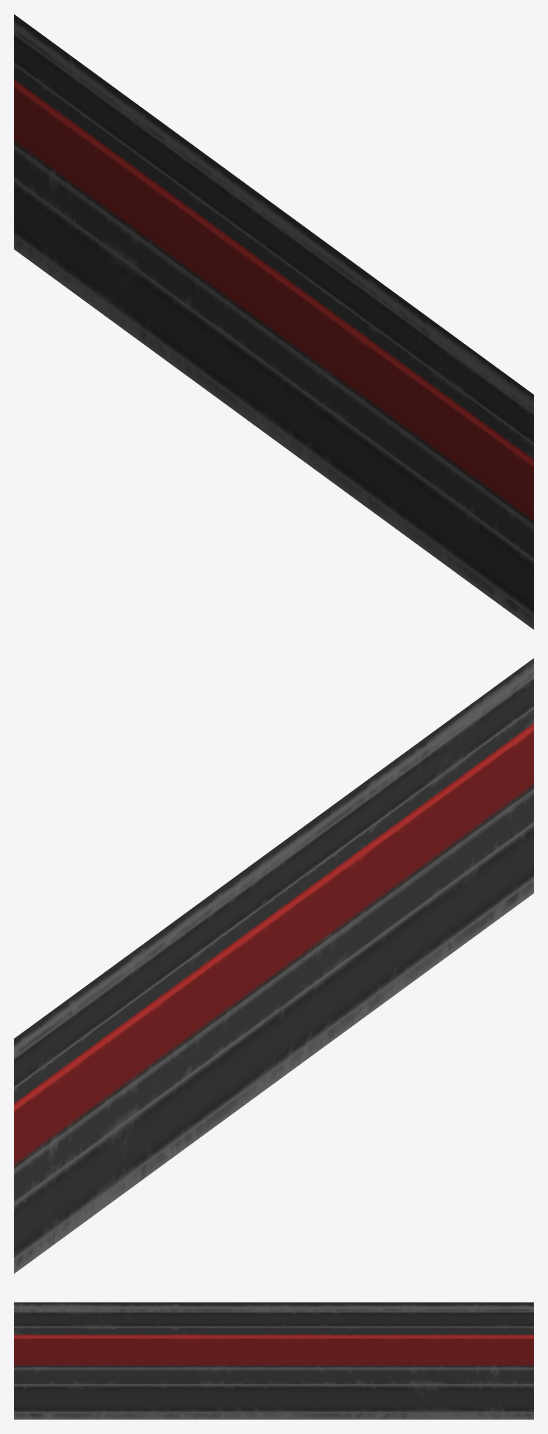
Rendered from S_ShortWallAccentStripStraight.gltf.
The picture shows the model from 3 angles, top to bottom: view 1: azimuth 30°, elevation 25°; view 2: azimuth 150°, elevation 25°; view 3: azimuth 270°, elevation 25°; orthographic projection. The views are drawn at different scales.
Visible parts, largest first — view 1: Plane_239-col; view 2: Plane_239-col; view 3: Plane_239-col.
Part boxes in pixels (left/top/right/bottom): Plane_239-col: left=14, top=14, right=533, bottom=629; Plane_239-col: left=14, top=658, right=533, bottom=1273; Plane_239-col: left=14, top=1302, right=533, bottom=1419.
Size of the model in its own units: 4.77e-07 by 0.9981 by 4.
1 material, 1 textured.
